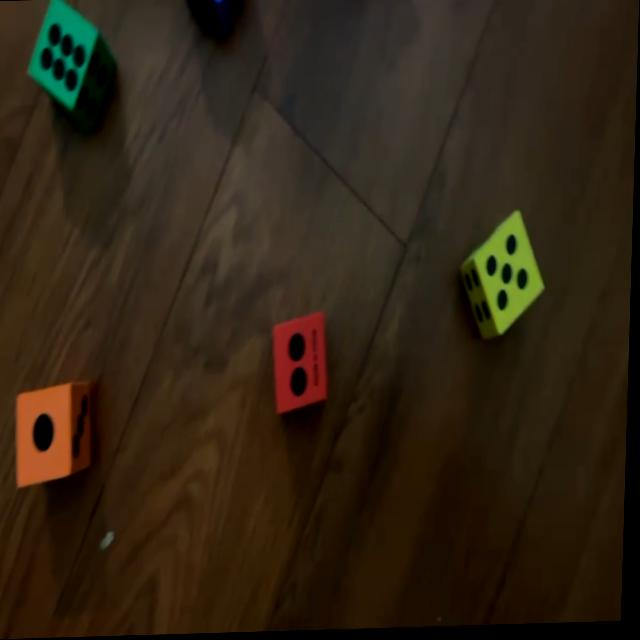blue_block: (195, 0, 240, 35)
red_block: (272, 311, 333, 413)
